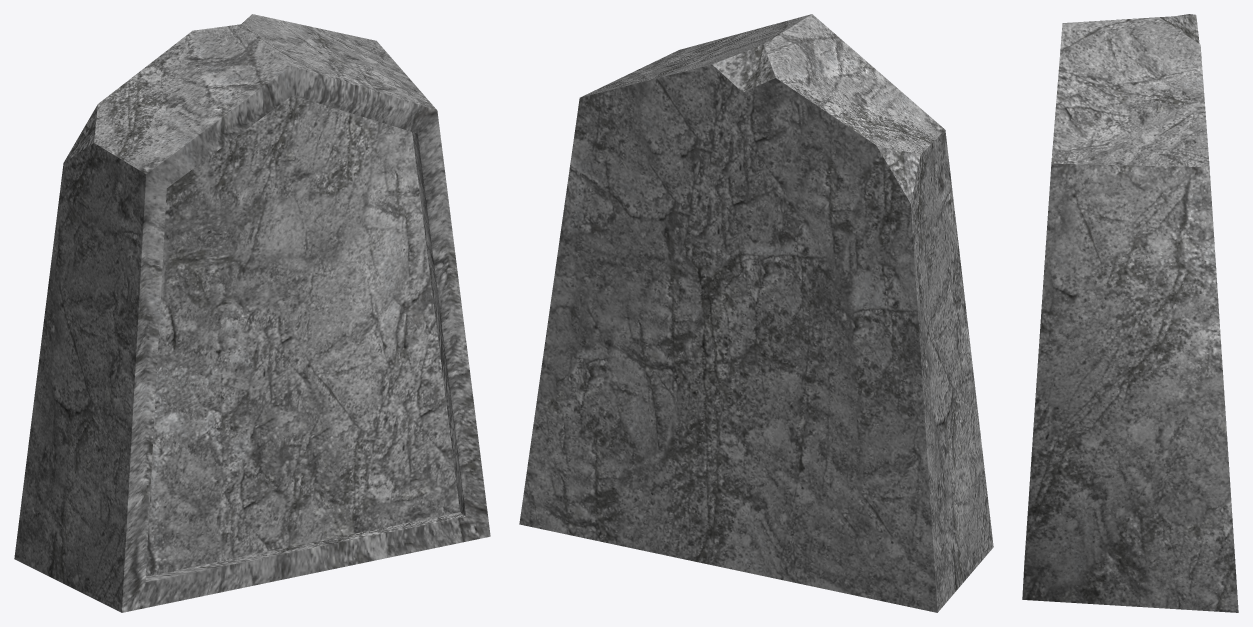
The model's file is materials_3_stone_2.fbx.
3 renders of one model, left to right at view 1: azimuth 30°, elevation 25°; view 2: azimuth 150°, elevation 25°; view 3: azimuth 270°, elevation 25°, orthographic.
Visible parts, largest first — view 1: materials_3_stone_2; view 2: materials_3_stone_2; view 3: materials_3_stone_2.
Boxes of the visible parts, box(x1,y1,x2,y2) form: materials_3_stone_2: box(14, 14, 490, 612); materials_3_stone_2: box(519, 14, 993, 612); materials_3_stone_2: box(1022, 14, 1238, 612).
Bounding box in the file's own units: 77.61 × 91.85 × 36.26.
